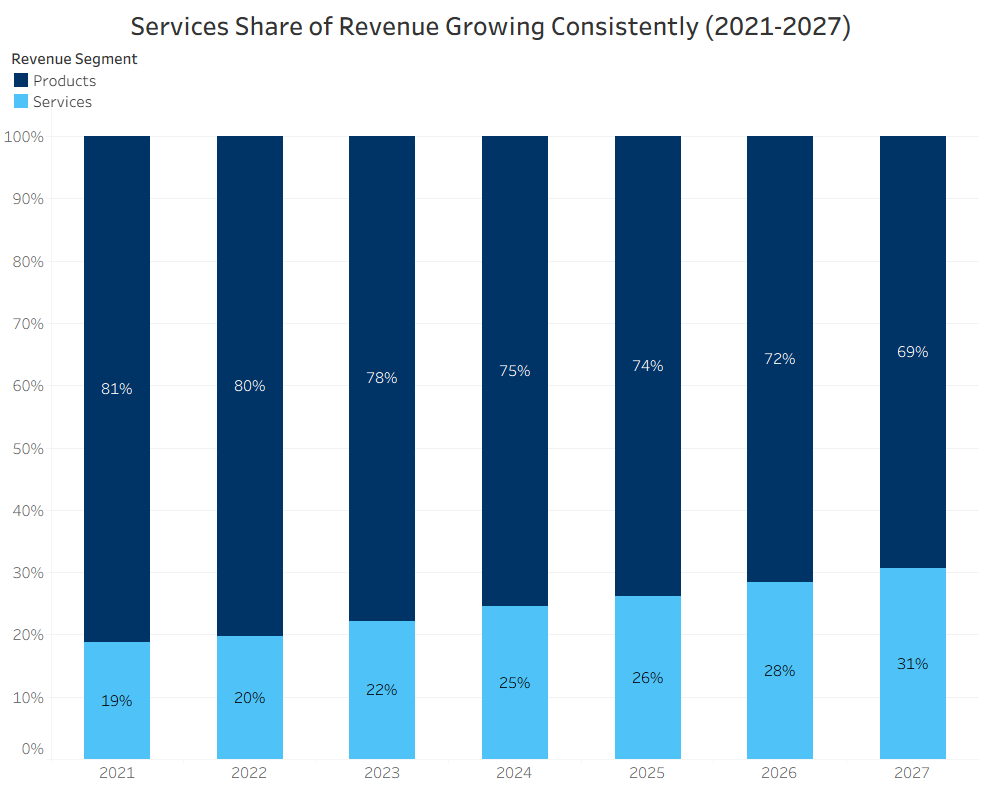

Layout of this report page (visuals, bound fields, positions):
{"tool":"tableau","page":{"name":"Revenue Mix Dashboard","canvas":[1000,800],"ordinal":3},"visuals":[{"type":"text","box":[8,8,984,97]},{"type":"legend","title":"Revenue Mix","param":"[federated.078z7iw1nqpfyc106ynqp1q8m5t3].[:Measure Names]","box":[20,52,268,64]},{"type":"worksheet","title":"Revenue Mix","mark":"Bar","cols":["Year"],"box":[8,105,984,687]}]}

Visuals, with their boxes in screenshot pixels (x1, y1, x2, y2), scaled from the page's 1000x800 canvas onto the 981x786 screenshot:
text: bbox=[8, 8, 973, 103]
"Revenue Mix" legend: bbox=[20, 51, 283, 114]
"Revenue Mix" worksheet (Bar marks): bbox=[8, 103, 973, 778]
